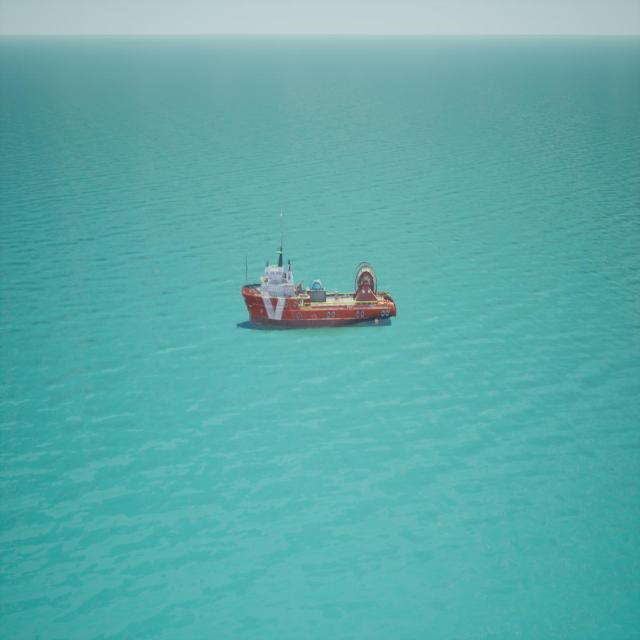tug boat: (239, 218, 397, 334)
